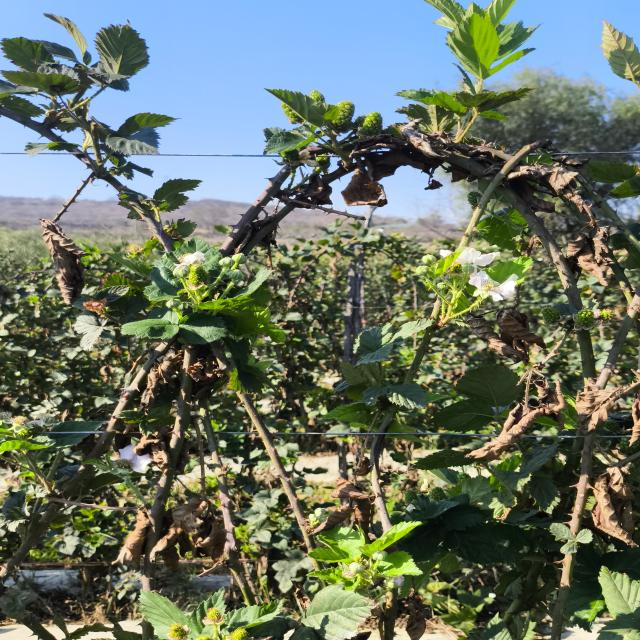boton: (173, 264, 190, 278), (229, 270, 244, 283), (219, 257, 234, 269), (421, 254, 436, 265), (234, 253, 248, 264), (416, 266, 429, 276)
flor: (469, 271, 517, 301), (456, 247, 500, 273), (182, 251, 205, 264)
